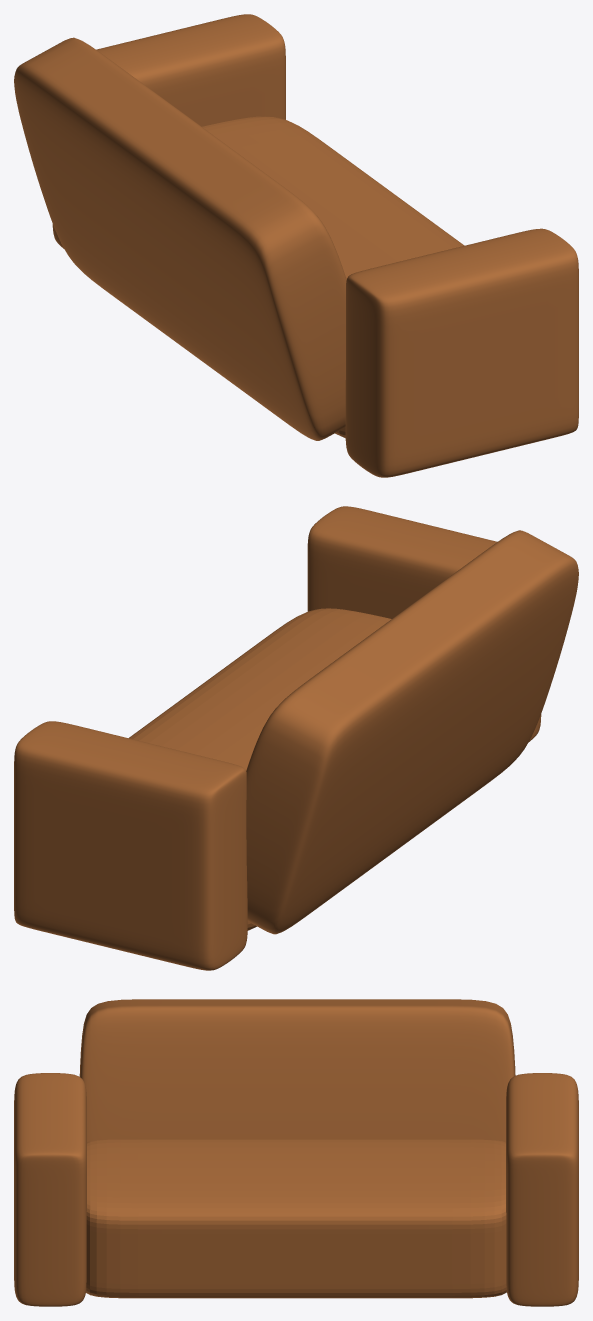
3 views of the same model, one above another, from view 1: azimuth 30°, elevation 25°; view 2: azimuth 150°, elevation 25°; view 3: azimuth 270°, elevation 25° (orthographic). The views are drawn at different scales.
Parts seen in each view (by area): view 1: Cube.012, Cube.010, Cube.009; view 2: Cube.012, Cube.010, Cube.009; view 3: Cube.009, Cube.012, Cube.010.
Boxes of the visible parts, <box> form: Cube.012: <box>14,37,346,440</box>; Cube.010: <box>52,14,578,477</box>; Cube.009: <box>202,116,464,438</box>; Cube.012: <box>246,530,578,934</box>; Cube.010: <box>14,506,541,970</box>; Cube.009: <box>128,608,391,930</box>; Cube.009: <box>86,1139,506,1298</box>; Cube.012: <box>79,999,515,1142</box>; Cube.010: <box>14,1073,578,1306</box>.
Size of the model in its own units: 1.12 by 0.943 by 2.32.
